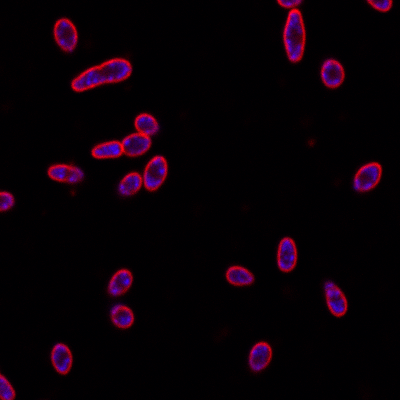Mecillinam: (69, 57, 132, 91), (90, 132, 152, 159), (283, 7, 304, 65), (141, 155, 170, 193), (317, 57, 346, 88), (53, 18, 79, 52), (51, 343, 74, 377), (276, 236, 298, 271), (226, 264, 255, 287)
Oblique: (350, 161, 384, 193), (322, 280, 348, 318), (45, 161, 87, 184), (107, 267, 135, 299), (247, 340, 274, 372), (107, 301, 136, 329), (116, 169, 144, 198), (132, 111, 160, 136)
